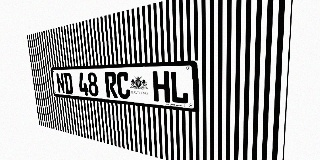4: (78, 72, 89, 96)
8: (87, 72, 99, 97)
C: (116, 72, 131, 99)
D: (63, 73, 73, 94)
H: (152, 71, 170, 103)
L: (170, 71, 189, 104)
N: (56, 73, 65, 94)
R: (104, 72, 118, 98)
